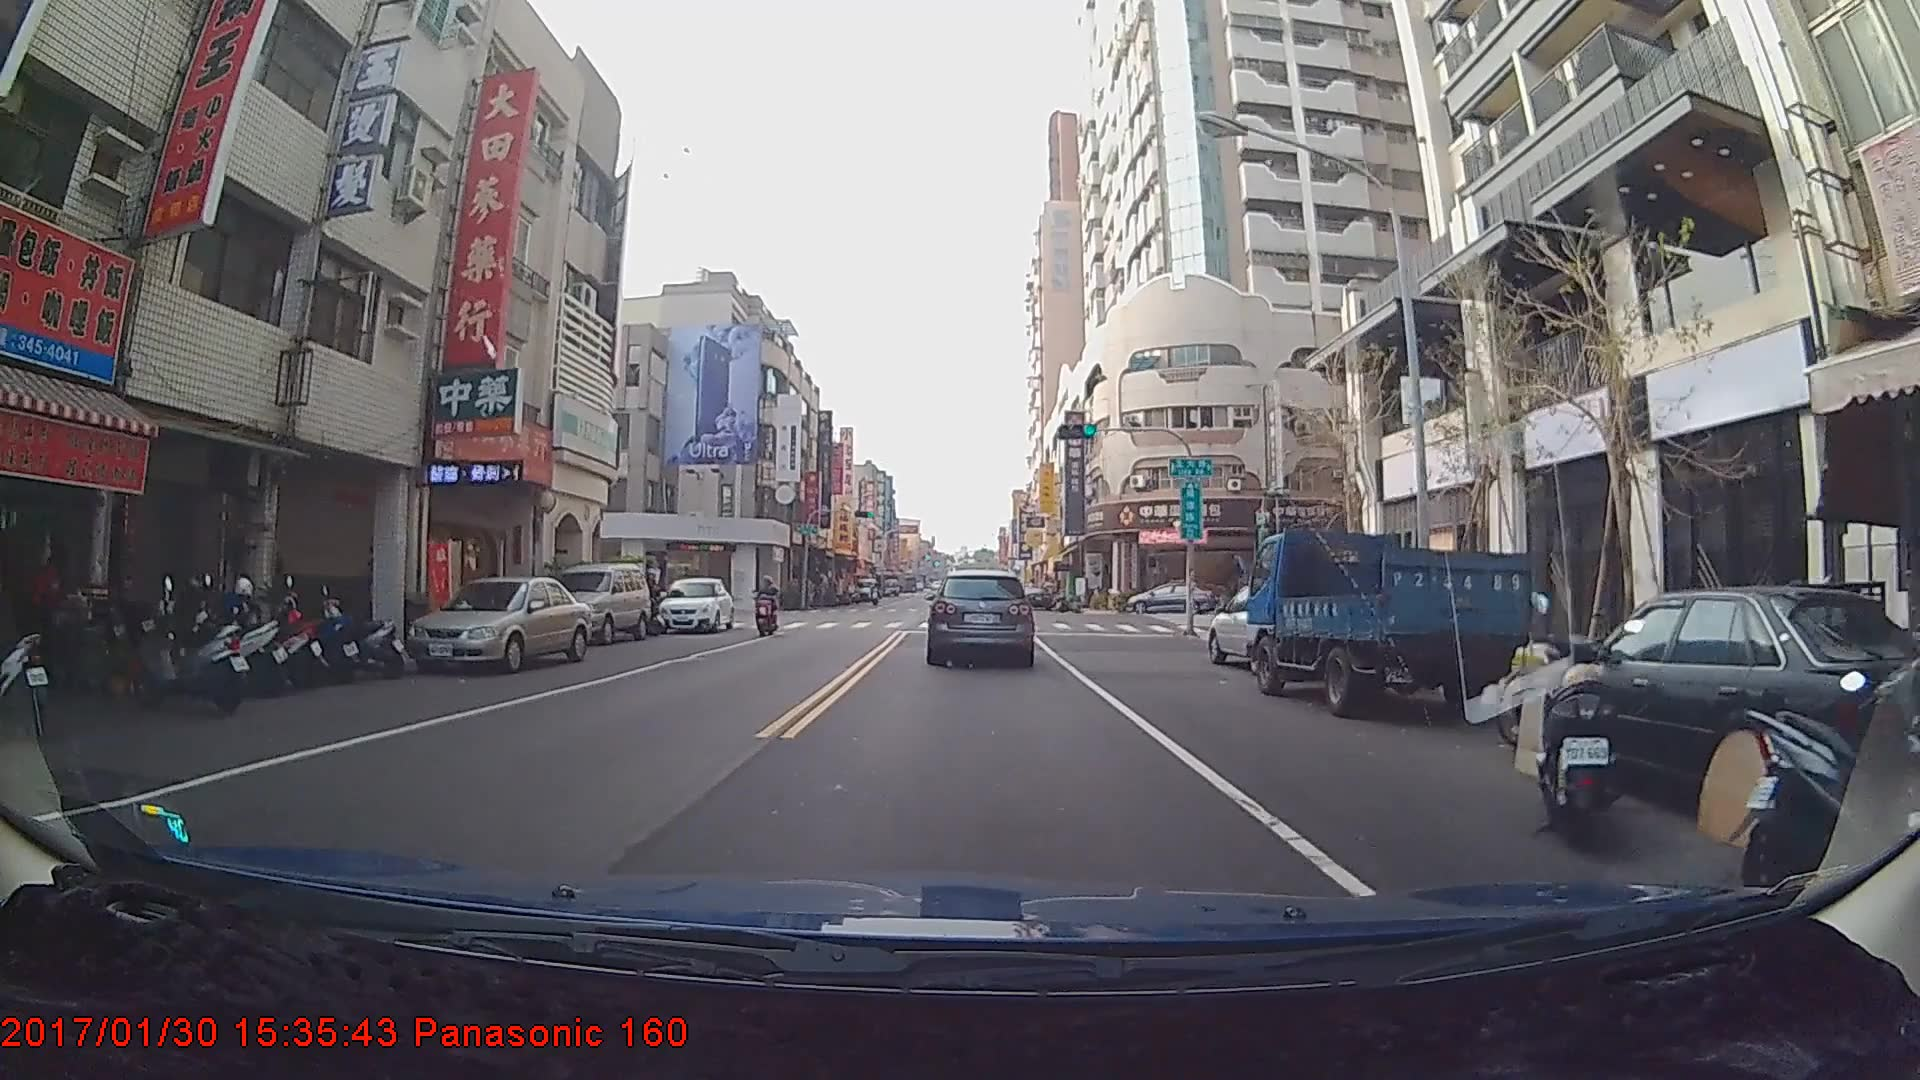rider: (756, 579, 783, 639)
vehicle: (1244, 535, 1530, 720), (403, 573, 594, 673), (1205, 580, 1347, 675), (927, 569, 1034, 666), (537, 560, 651, 648), (658, 576, 734, 633), (1125, 581, 1212, 614), (1021, 584, 1052, 611), (854, 576, 878, 601)
